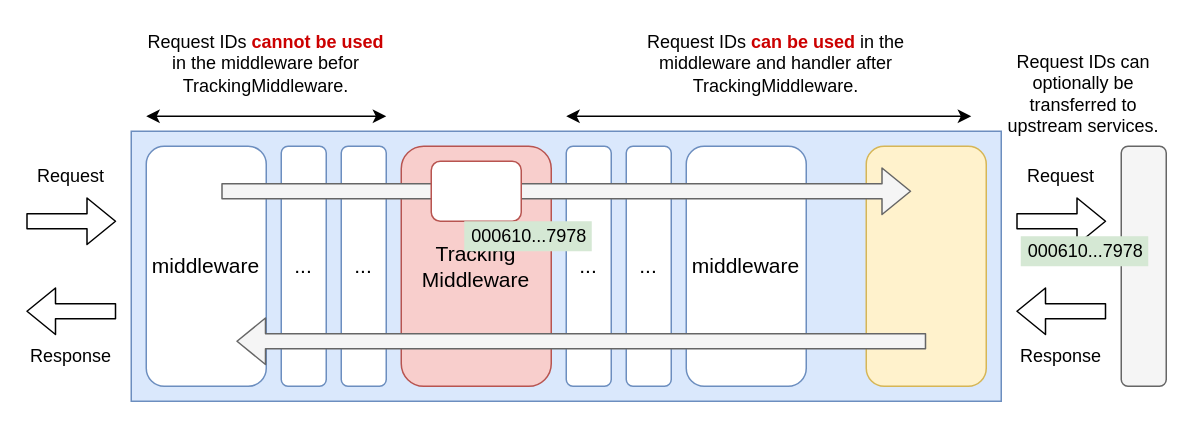
Image size: 1193x428. Some labels were removed from this diagram. Each missing label, with the centre of its shape:
Generate Req. ID: pixel 475 190
Handler: pixel 925 265
